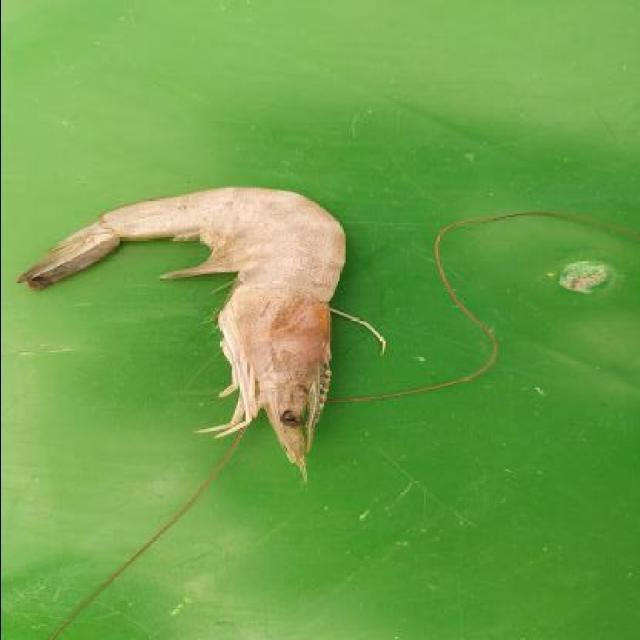shrimp: (27, 186, 345, 470)
